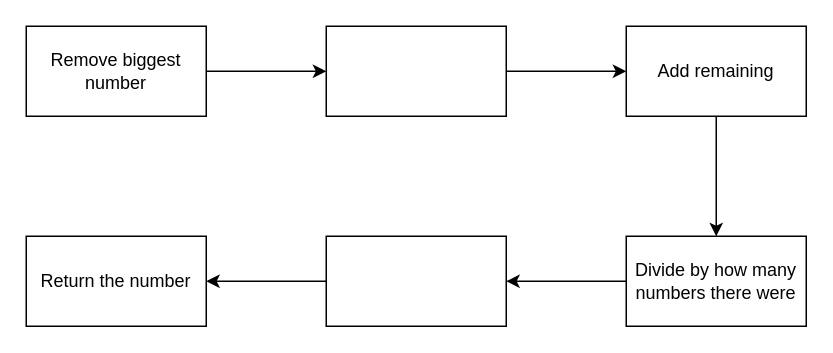
This 833x353 diagram has some shape labels left out. The centre of each missing label's shape, as x and y in pixels:
Remove smallest number: (415,70)
Round to the nearest whole number: (415,280)
